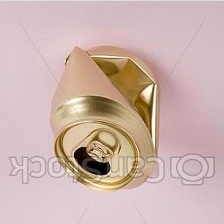can: (44, 40, 162, 194)
